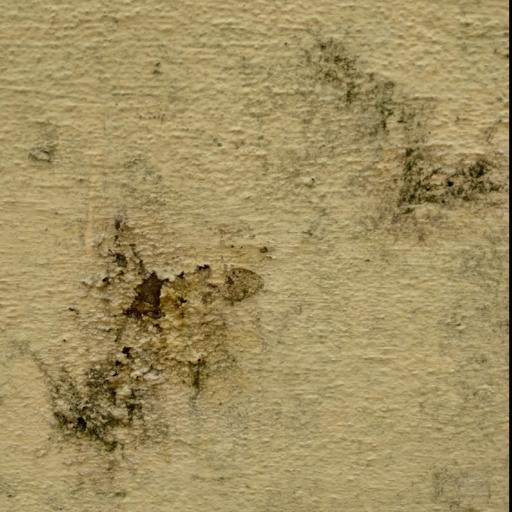algae: (40, 201, 329, 468)
